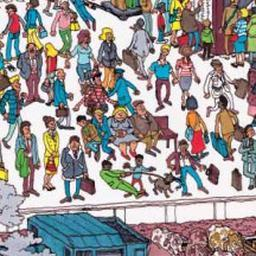waldo: (87, 69, 104, 86)
